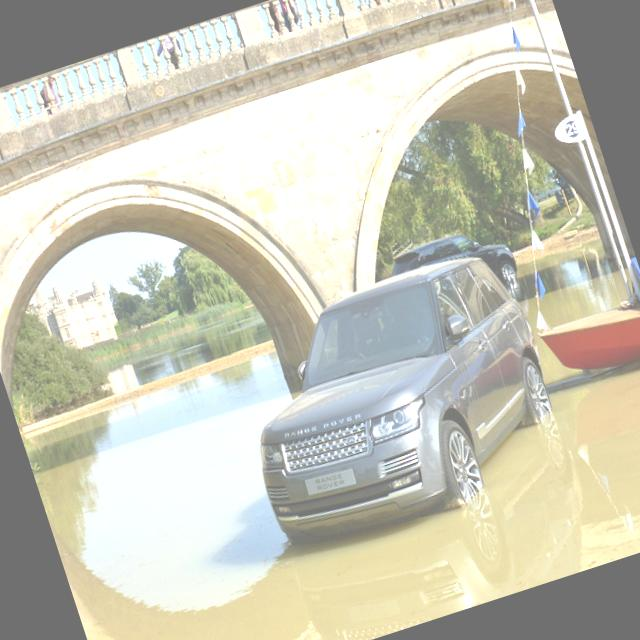Vehicle: (214, 237, 576, 560), (386, 218, 528, 334)
